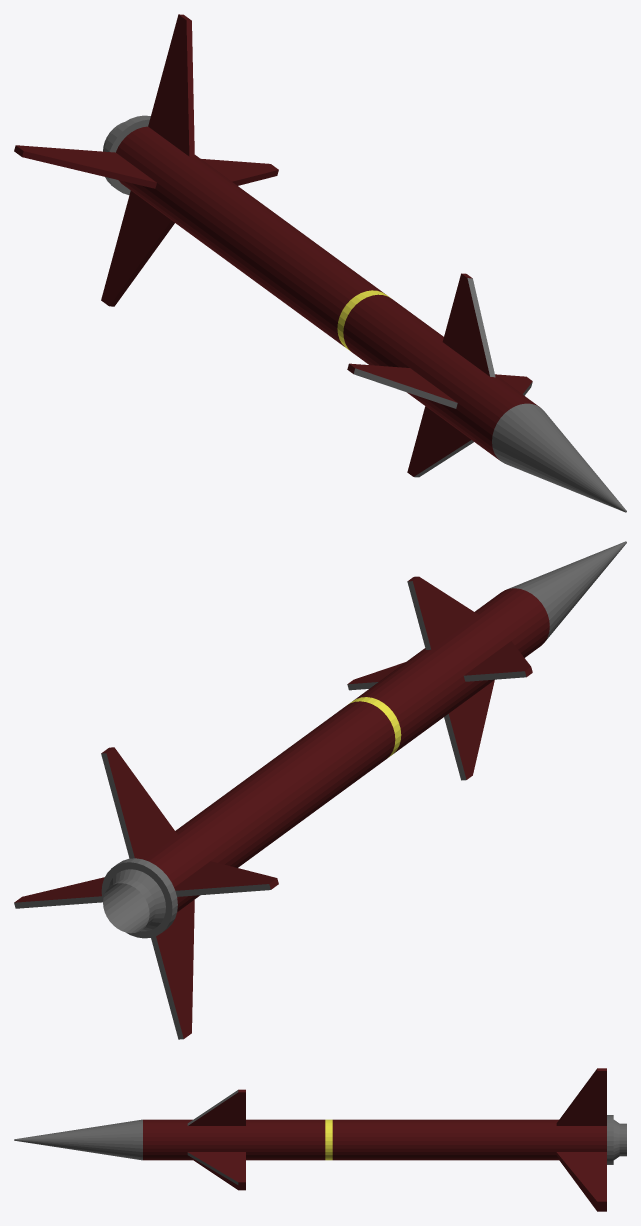
File: missile.glb
3 renders of one model, top to bottom at view 1: azimuth 30°, elevation 25°; view 2: azimuth 150°, elevation 25°; view 3: azimuth 270°, elevation 25°, orthographic. The views are drawn at different scales.
Visible parts, largest first — view 1: missile; view 2: missile; view 3: missile.
Boxes of the visible parts, x1=… form: missile: x1=14, y1=14, x2=626, y2=512; missile: x1=14, y1=541, x2=626, y2=1039; missile: x1=14, y1=1068, x2=626, y2=1211.
Bounding box in the file's own units: 1.17 × 1.17 × 3.95.
